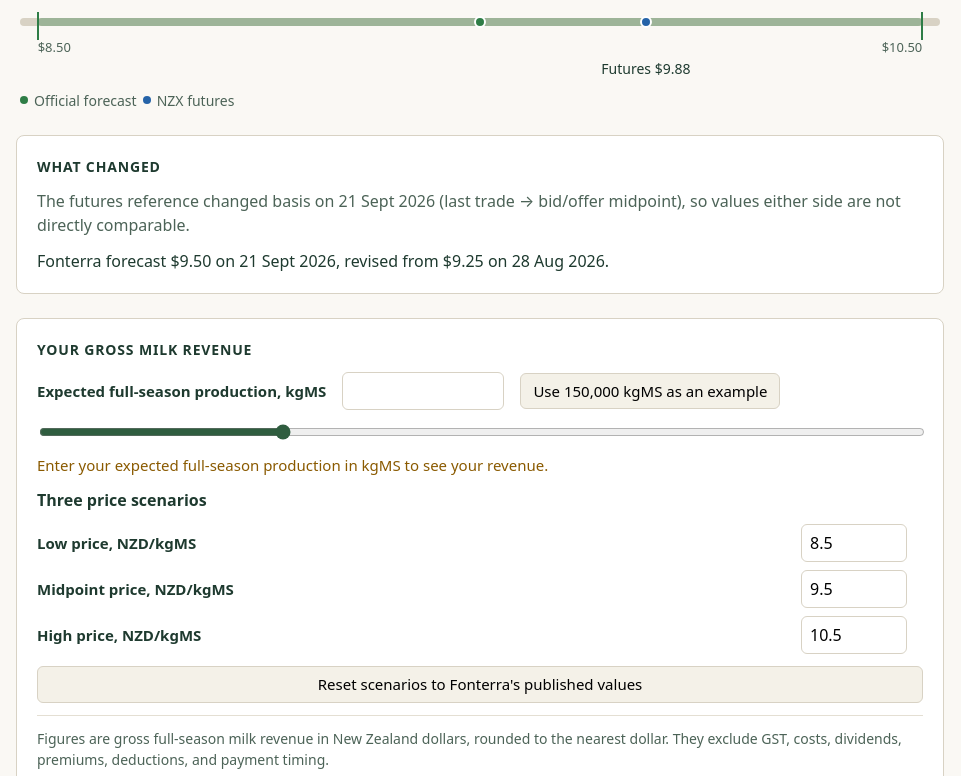
Test case: movement tiles › keeps tiles absent for suppressed moves while scenarios stay editable
The width and height of the screenshot is (961, 776).
(page scrolled)
Type "150000" into the field labelled "Expected full-season production, kgMS" at (423, 391), box [342,372,504,410]
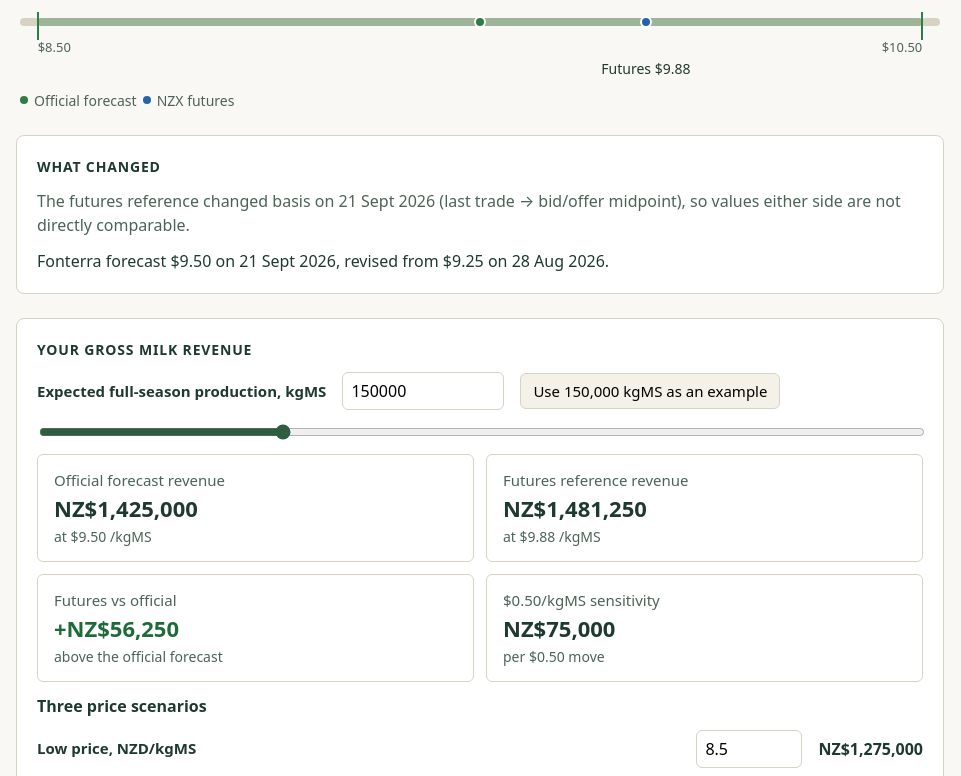
Replace the text in the field labelled "Low price, NZD/kgMS" with "8" at (749, 749), box [696,730,802,768]
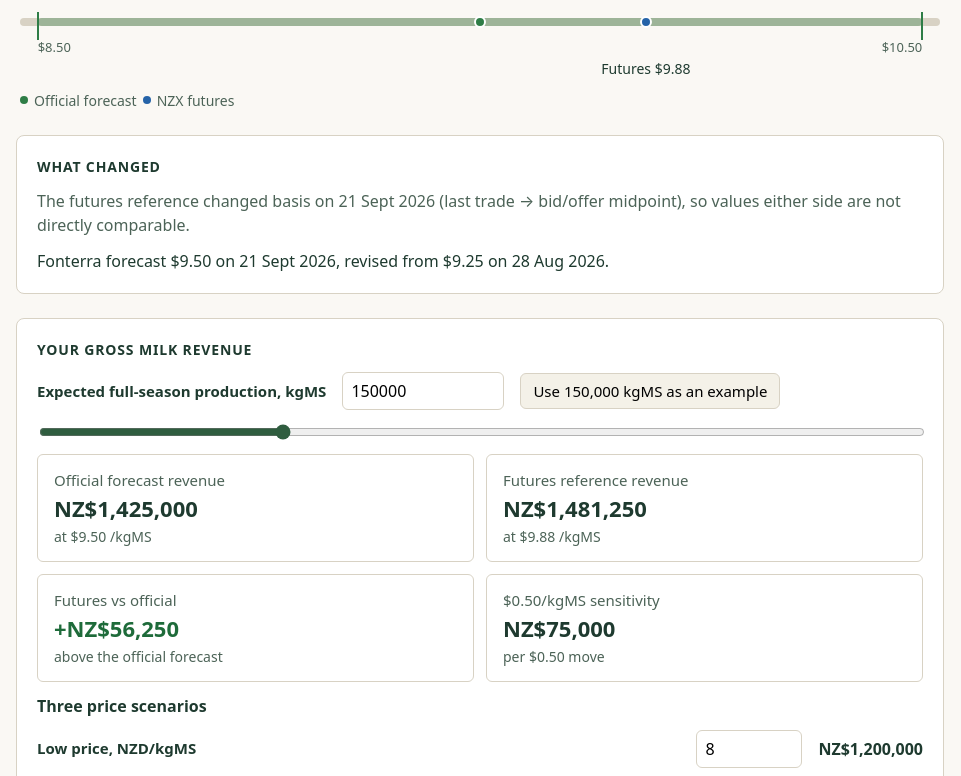
Now the text "NZ$1,200,000" is shown, box [818,737,923,761]
